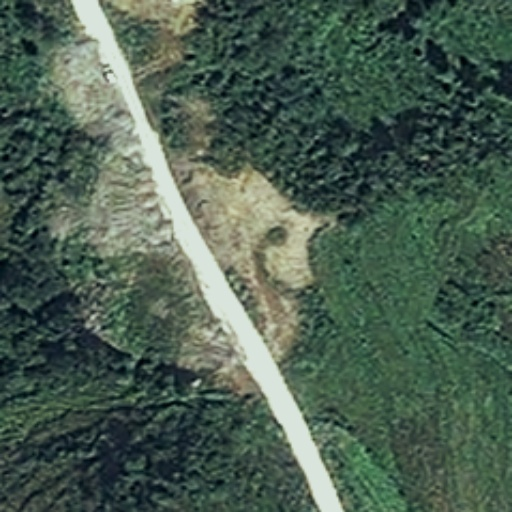landslide: (183, 159, 335, 362)
